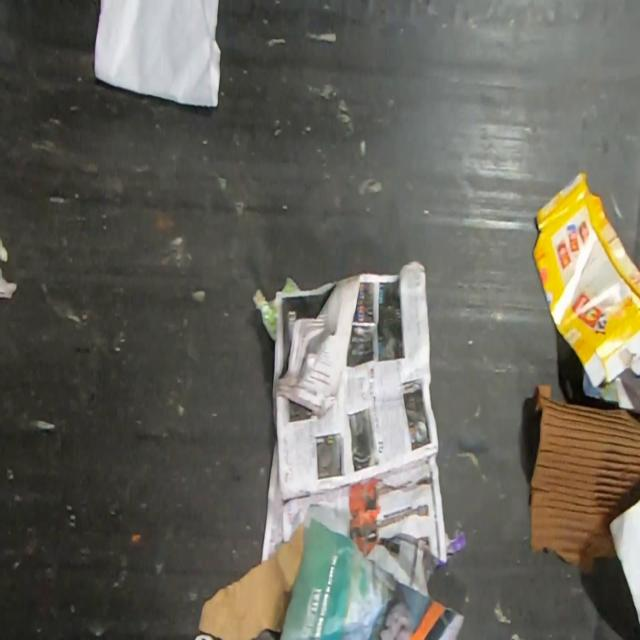cardboard: (533, 170, 640, 391), (528, 382, 640, 577), (196, 522, 305, 640)
soft_plastic: (0, 236, 17, 300)
